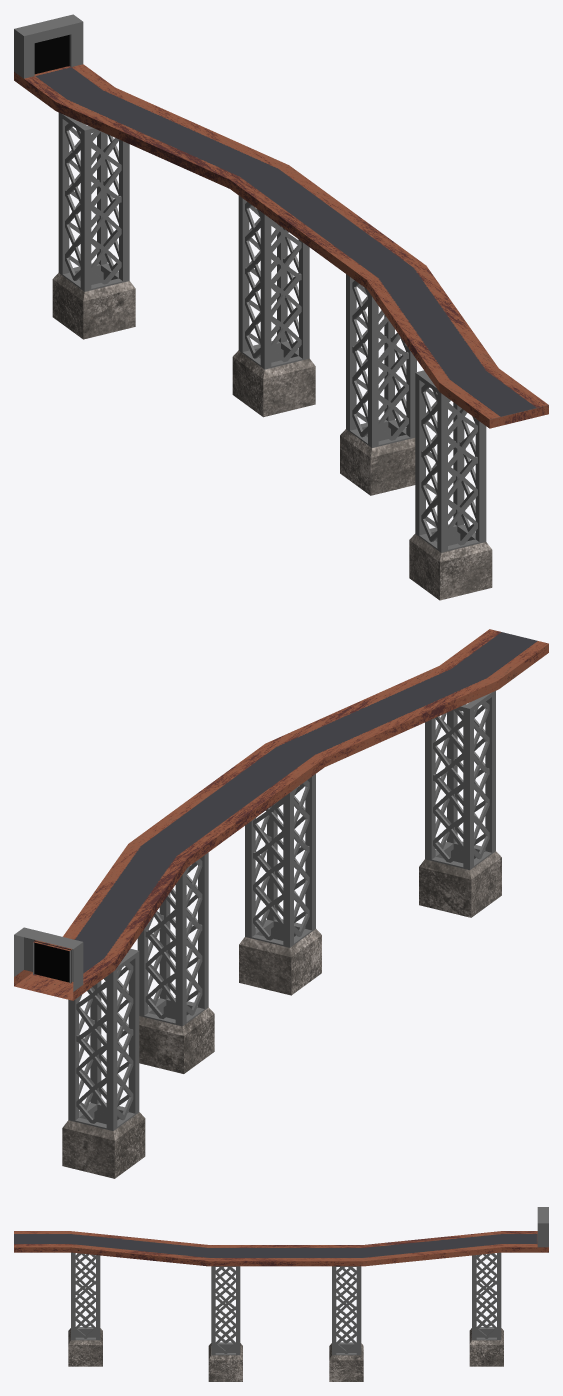
File: BF_UpperPlatform.fbx
3 renders of one model, top to bottom at view 1: azimuth 30°, elevation 25°; view 2: azimuth 150°, elevation 25°; view 3: azimuth 270°, elevation 25°, orthographic. The views are drawn at different scales.
Parts seen in each view (by area): view 1: UpperPlatform; view 2: UpperPlatform; view 3: UpperPlatform.
Part boxes in pixels (box(x1,y1,x2,y2)): UpperPlatform: box(14, 14, 548, 600); UpperPlatform: box(14, 629, 548, 1178); UpperPlatform: box(14, 1207, 548, 1381).
Size of the model in its own units: 2538 by 5621 by 18736.
